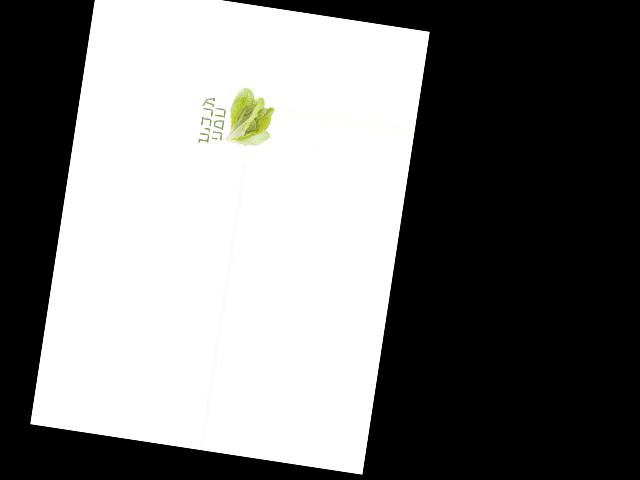lettuce: (219, 84, 277, 153)
